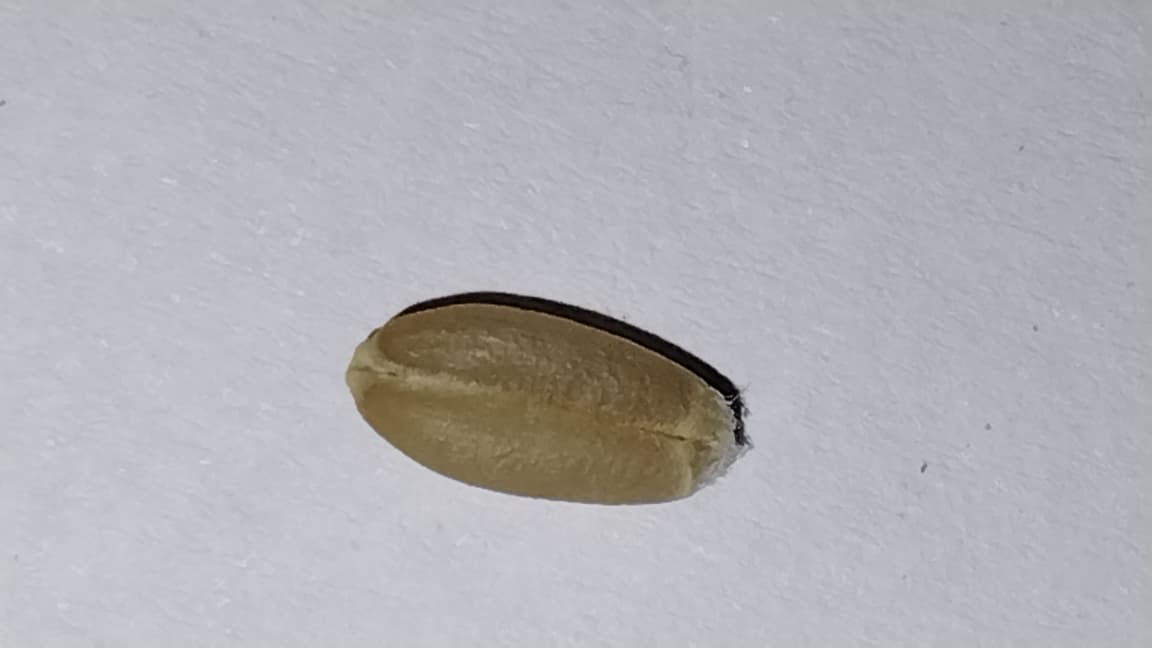healthy: (347, 303, 745, 506)
